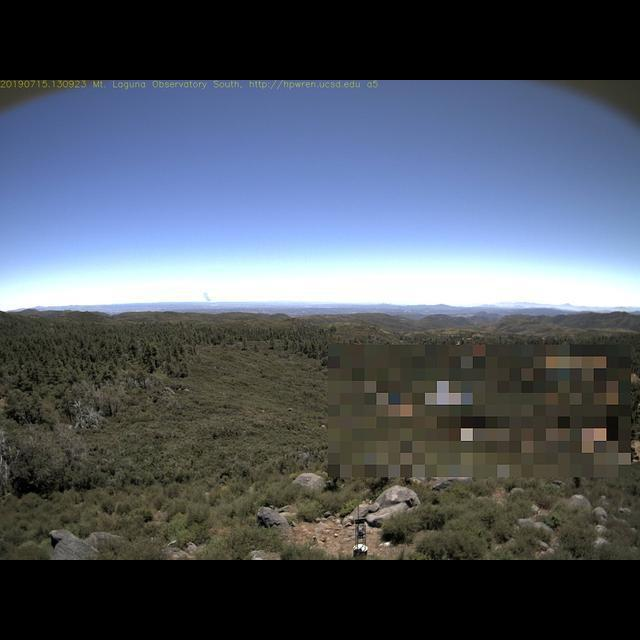Smoke: (199, 287, 215, 305)
